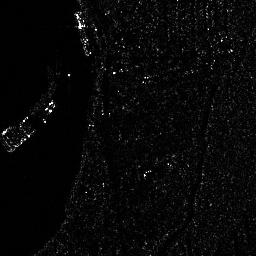ship: (79, 29, 93, 58)
